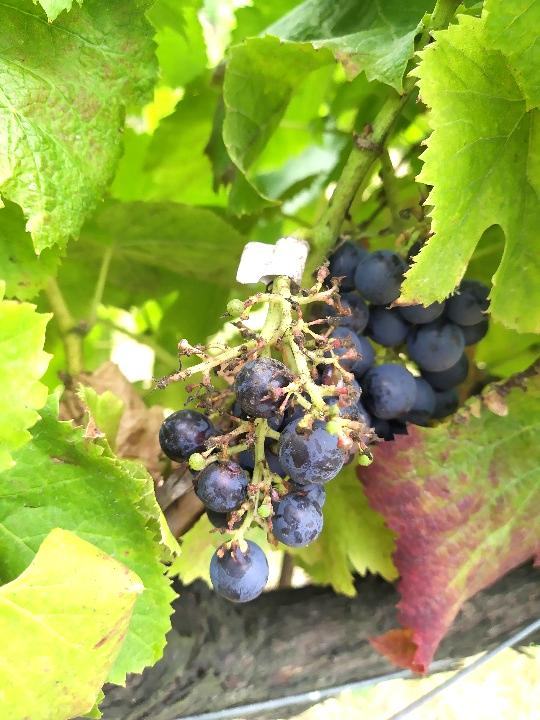grape: (152, 263, 383, 607)
